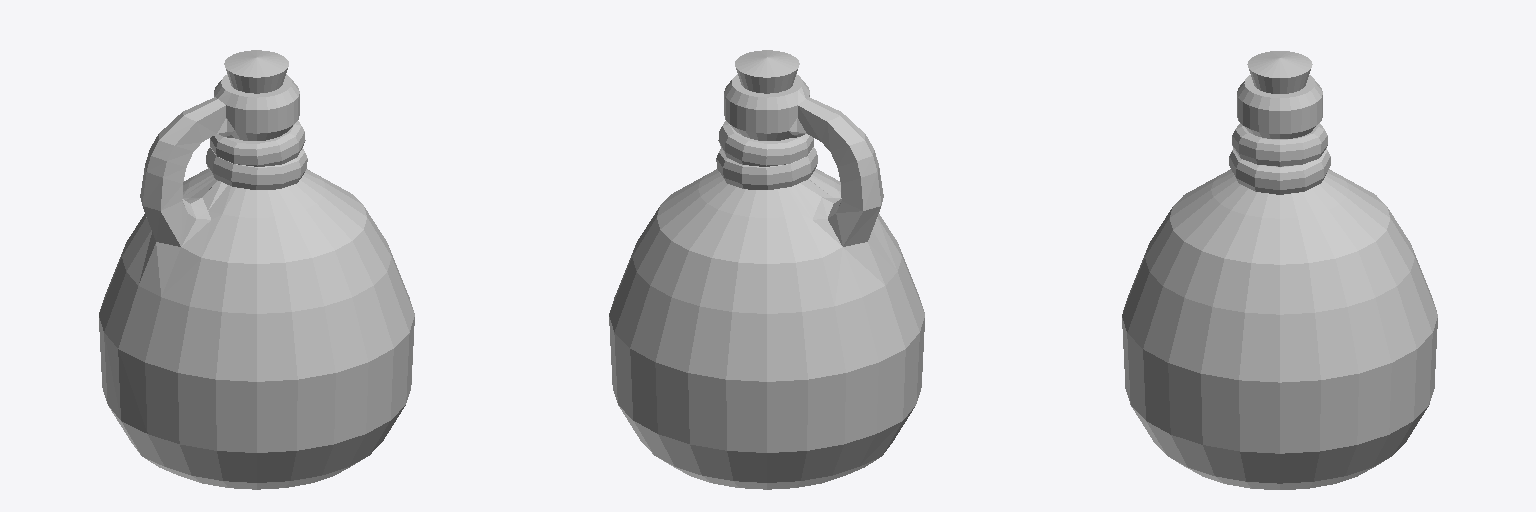
The model's file is ale_bottle_C.obj.
3 renders of one model, left to right at view 1: azimuth 30°, elevation 25°; view 2: azimuth 150°, elevation 25°; view 3: azimuth 270°, elevation 25°, orthographic.
Visible parts, largest first — view 1: ale_bottle_C_Cylinder.050; view 2: ale_bottle_C_Cylinder.050; view 3: ale_bottle_C_Cylinder.050.
Part boxes in pixels (left/top/right/bottom): ale_bottle_C_Cylinder.050: left=99, top=50, right=414, bottom=489; ale_bottle_C_Cylinder.050: left=609, top=50, right=924, bottom=489; ale_bottle_C_Cylinder.050: left=1122, top=51, right=1437, bottom=489.
Size of the model in its own units: 0.5126 by 0.7052 by 0.5095.